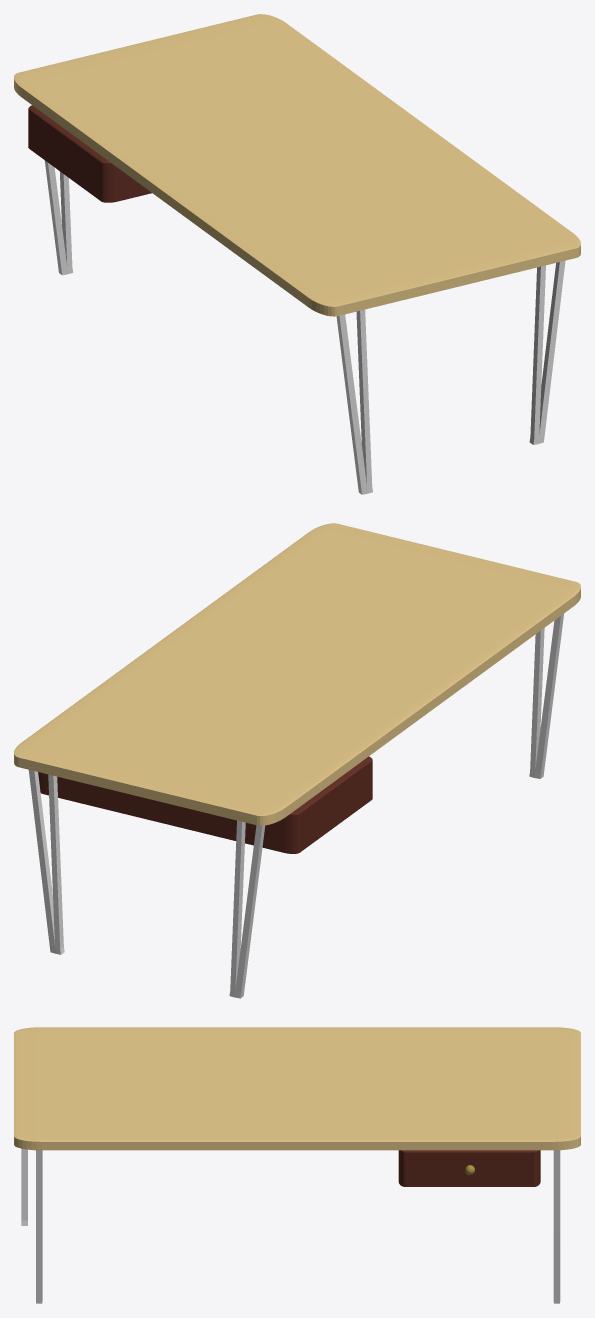
Rendered from desk.gltf.
3 renders of one model, top to bottom at view 1: azimuth 30°, elevation 25°; view 2: azimuth 150°, elevation 25°; view 3: azimuth 270°, elevation 25°, orthographic. The views are drawn at different scales.
Parts seen in each view (by area): view 1: Cube.014; view 2: Cube.014; view 3: Cube.014.
Part boxes in pixels (x1,y1,x2,y2): Cube.014: [14, 14, 580, 494]; Cube.014: [14, 523, 580, 998]; Cube.014: [14, 1027, 580, 1303].
Size of the model in its own units: 0.7344 by 0.5148 by 1.5.
